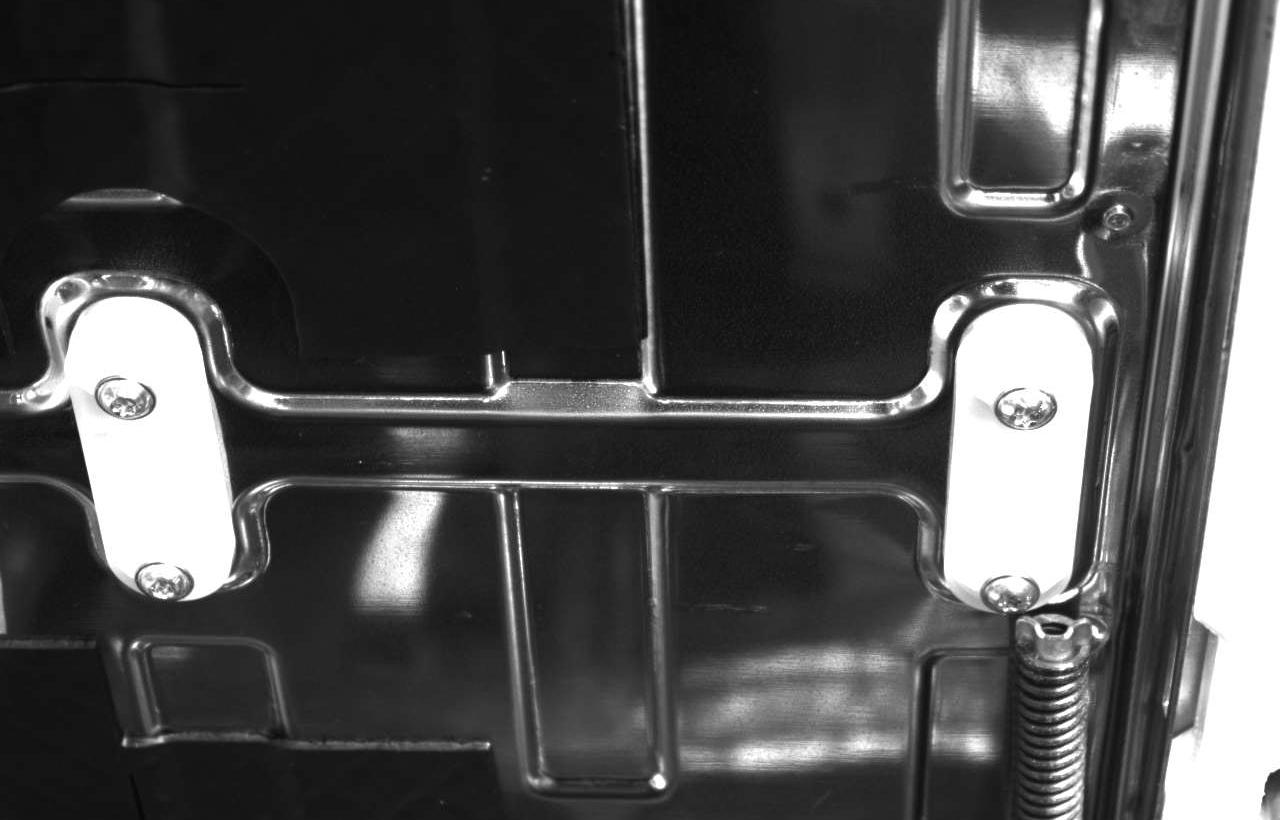vida-ok: (74, 369, 161, 447), (981, 377, 1069, 450), (118, 544, 199, 608), (973, 560, 1049, 618)
